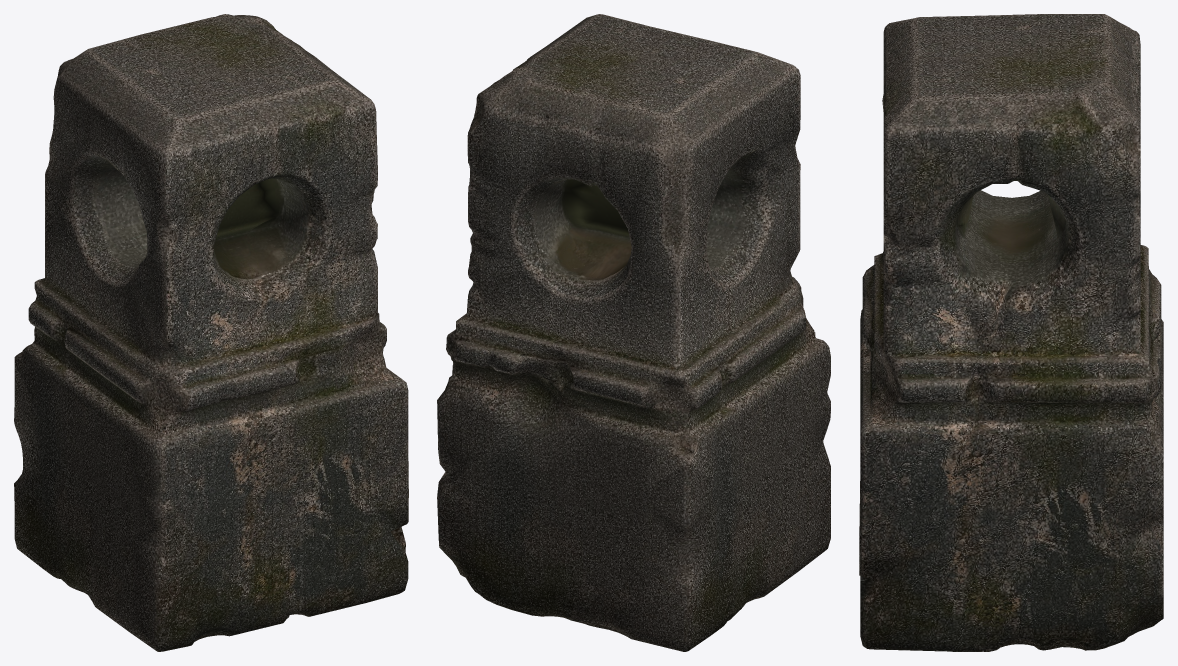
The model's file is tripo_convert_eb855dbb-40b6-4e3e-9008-42185fb4f8e8.fbx.
3 renders of one model, left to right at view 1: azimuth 30°, elevation 25°; view 2: azimuth 150°, elevation 25°; view 3: azimuth 270°, elevation 25°, orthographic. The views are drawn at different scales.
Visible parts, largest first — view 1: tripo_node_eb855dbb; view 2: tripo_node_eb855dbb; view 3: tripo_node_eb855dbb.
Boxes of the visible parts, box(x1,y1,x2,y2) form: tripo_node_eb855dbb: box(14, 14, 408, 651); tripo_node_eb855dbb: box(437, 14, 830, 651); tripo_node_eb855dbb: box(859, 14, 1163, 651).
Size of the model in its own units: 0.5176 by 0.998 by 0.5137.
Materials: 1 (1 with a texture image).
